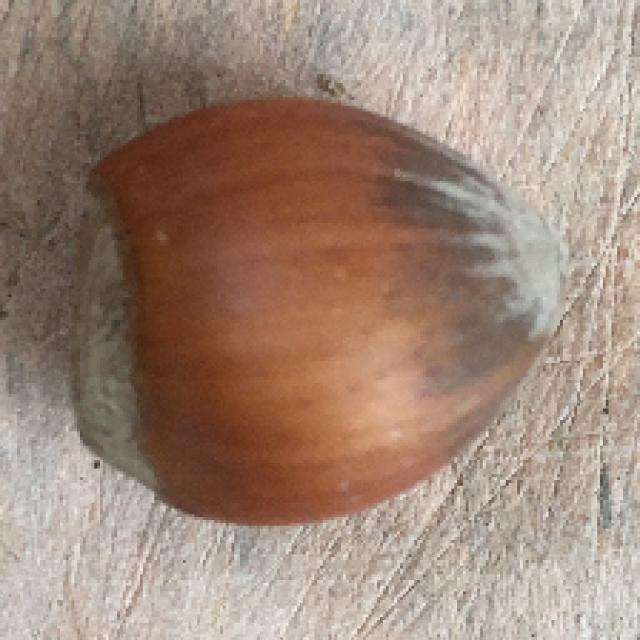qualityHazelnut: (55, 93, 575, 527)
